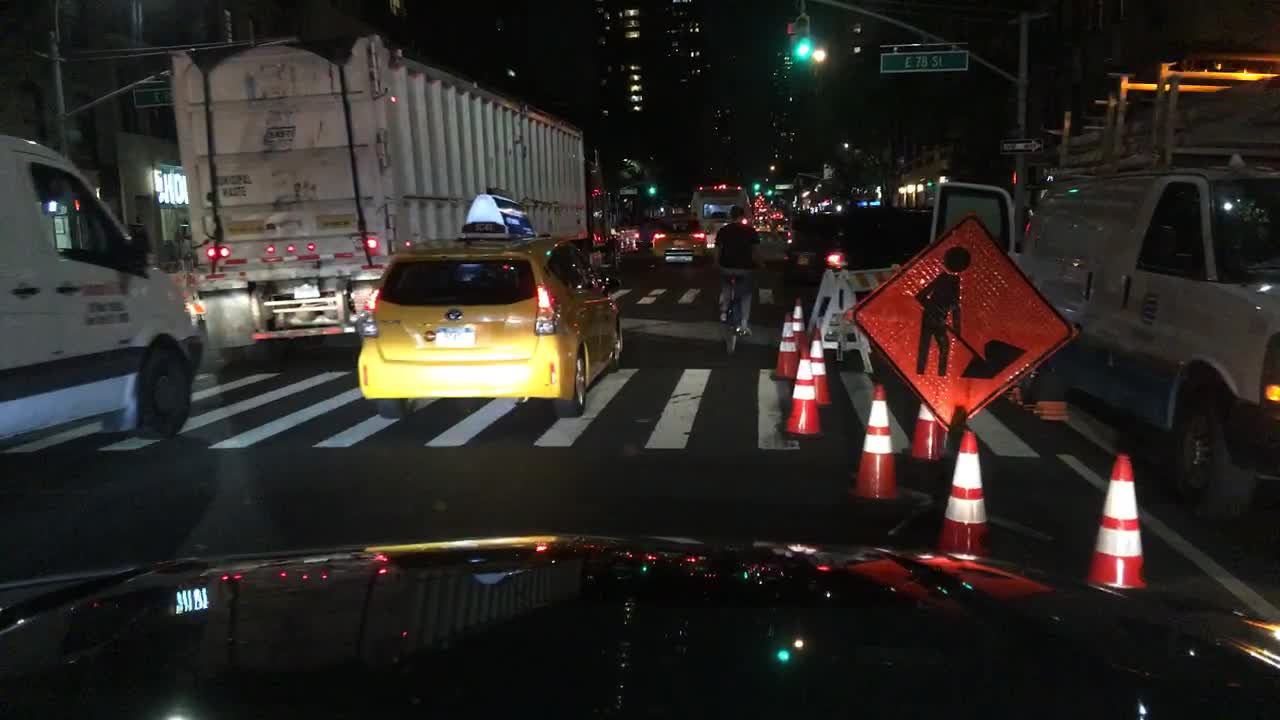bike: (717, 274, 748, 358)
car: (1011, 53, 1279, 522), (0, 130, 200, 464), (355, 189, 625, 419), (775, 209, 930, 310), (923, 178, 1013, 258), (134, 242, 208, 337), (686, 183, 755, 250), (647, 214, 707, 264), (612, 212, 650, 256), (756, 205, 789, 238), (755, 193, 767, 207)
rider: (710, 204, 756, 332)
traffic light: (751, 192, 824, 280), (788, 15, 810, 64), (750, 179, 762, 192), (649, 183, 657, 195), (766, 187, 773, 199)
traffic sign: (849, 211, 1079, 434), (882, 52, 969, 70), (132, 87, 174, 105), (999, 139, 1043, 151), (822, 163, 835, 182), (773, 182, 802, 188)
truck: (166, 42, 593, 370)
